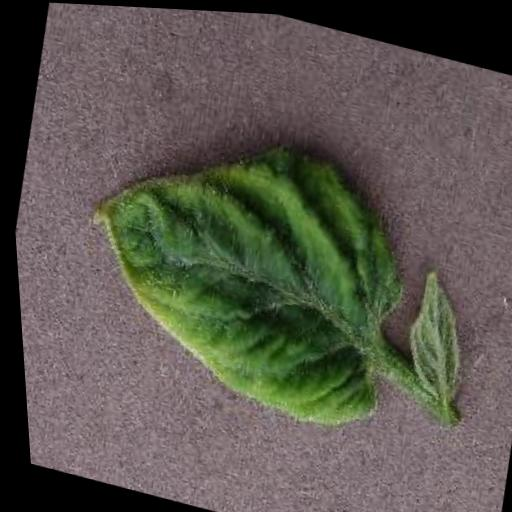Yellow Leaf Curl Virus: (53, 95, 432, 435)
